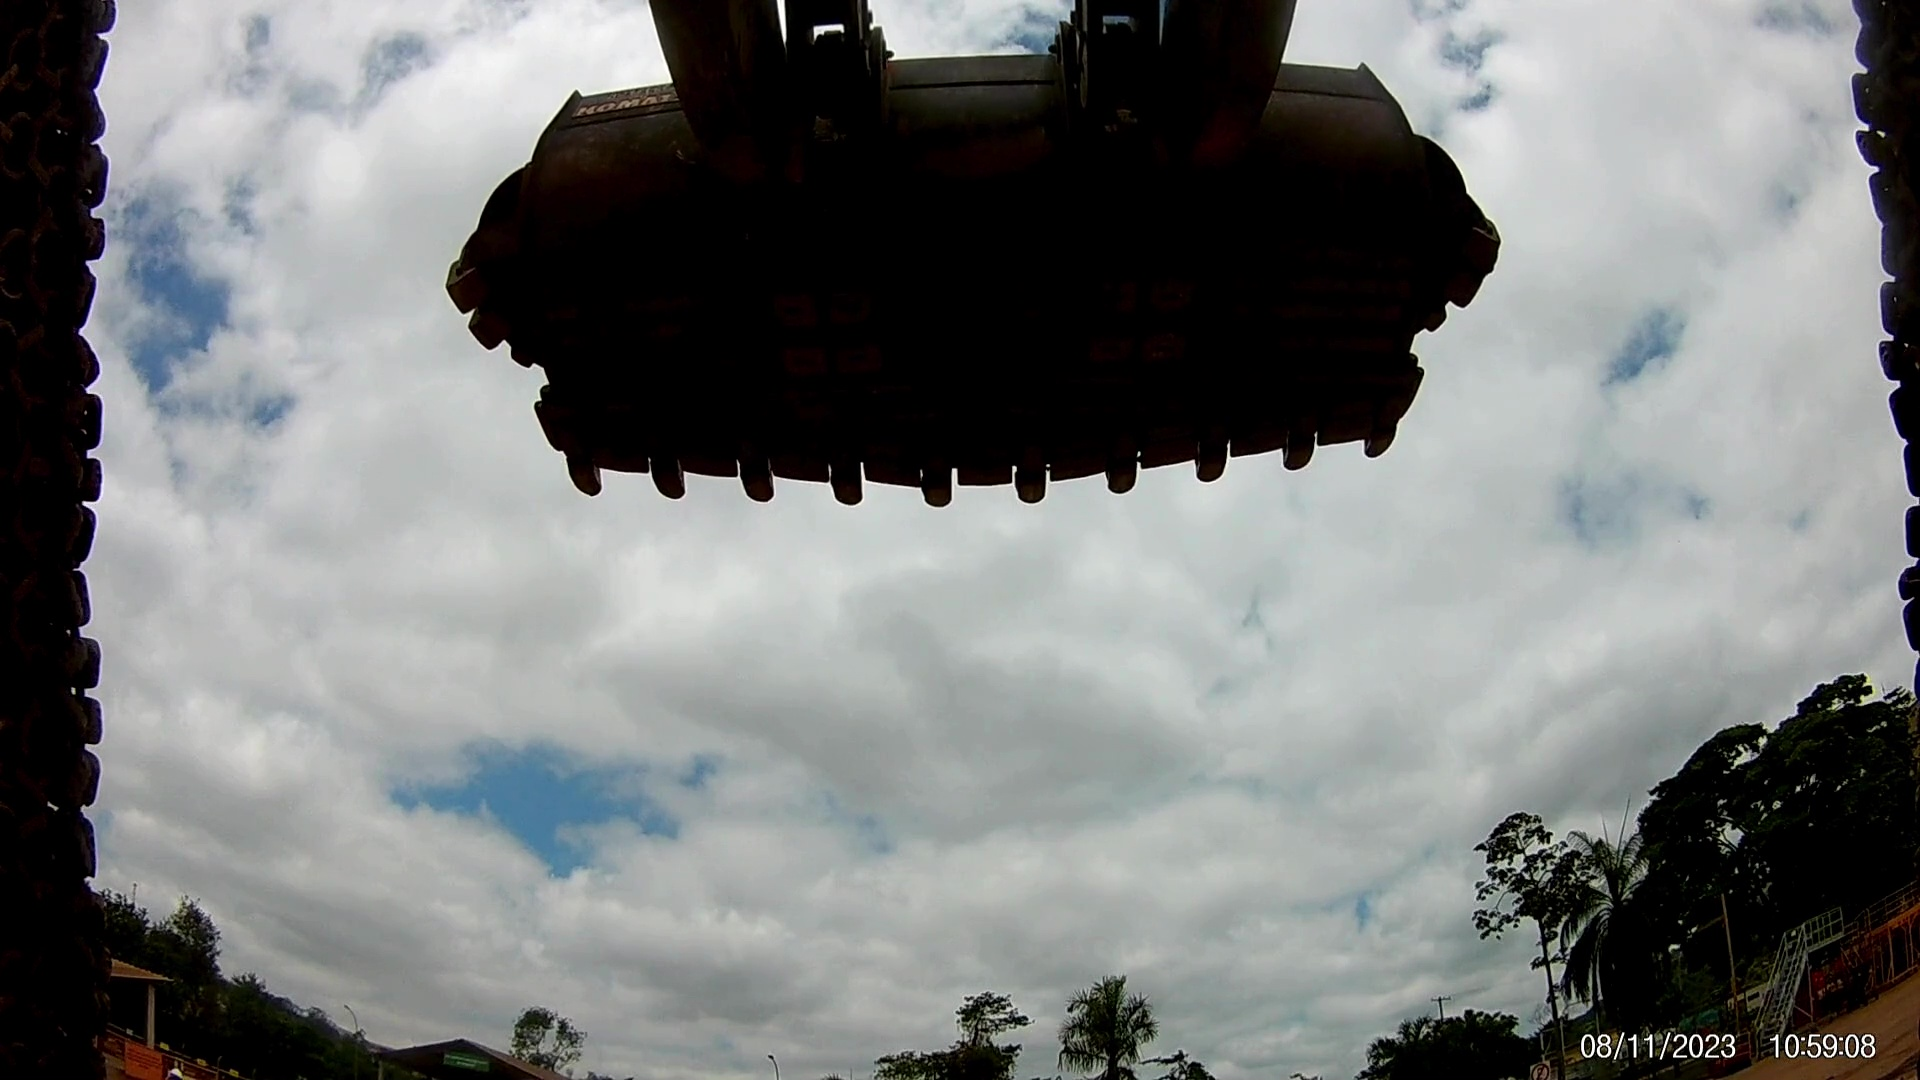FPS: (525, 429, 611, 512), (720, 444, 806, 520), (827, 438, 873, 522), (1178, 431, 1244, 487), (1013, 454, 1073, 512), (1098, 422, 1147, 493), (918, 444, 968, 512), (651, 450, 702, 516), (1352, 426, 1408, 469), (1288, 429, 1325, 481)
